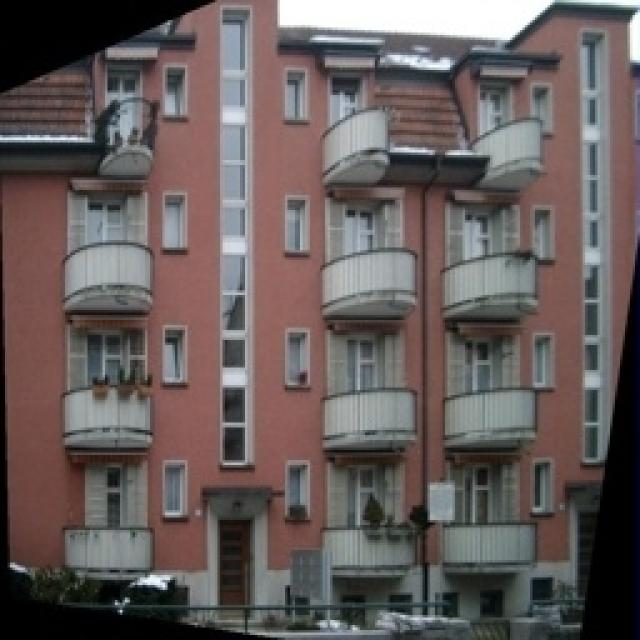building: (0, 0, 640, 618)
